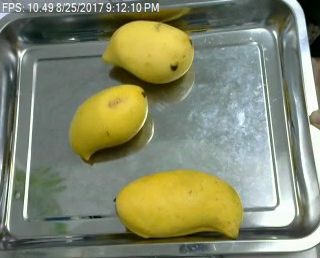Mango: (113, 170, 243, 241), (69, 83, 149, 164), (100, 17, 196, 83)
